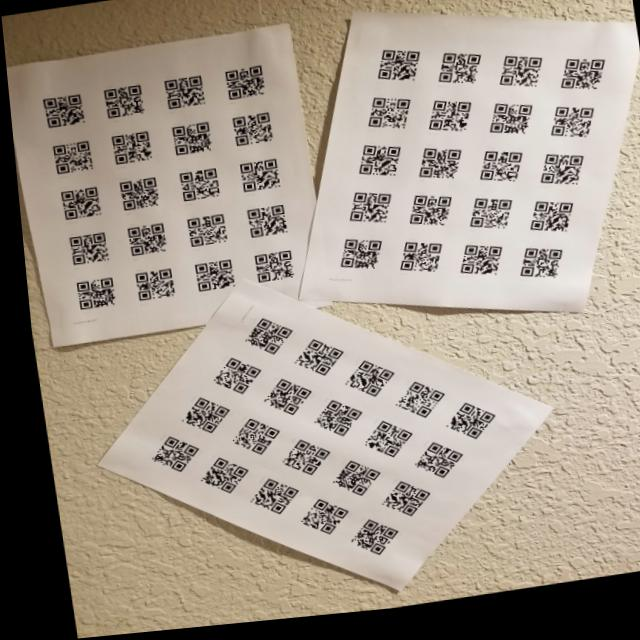QR_CODE: (360, 41, 428, 99), (534, 104, 601, 162), (227, 309, 294, 367), (25, 82, 92, 138), (525, 151, 593, 206), (166, 388, 230, 444), (132, 426, 196, 482), (546, 57, 614, 109), (196, 350, 259, 405), (281, 496, 345, 549), (331, 516, 392, 571), (484, 54, 547, 107), (505, 249, 568, 302), (338, 141, 402, 193), (328, 188, 393, 239), (91, 73, 150, 129), (317, 238, 384, 287), (403, 145, 465, 197), (330, 358, 392, 410), (268, 437, 330, 488), (392, 192, 455, 242), (432, 404, 495, 454), (347, 421, 410, 471), (453, 196, 513, 248), (412, 100, 475, 149), (298, 399, 361, 448), (475, 102, 535, 153), (185, 454, 245, 505), (353, 93, 414, 143), (400, 442, 461, 492), (367, 482, 428, 532), (249, 378, 311, 427), (233, 478, 295, 527), (280, 339, 340, 389), (384, 240, 445, 289), (381, 384, 443, 432), (172, 213, 235, 260), (425, 51, 485, 100), (445, 244, 505, 293), (214, 57, 269, 110), (467, 150, 525, 200), (319, 460, 377, 510), (217, 417, 277, 465), (117, 262, 174, 312), (54, 226, 114, 273), (517, 204, 577, 251), (154, 68, 209, 119), (46, 179, 103, 228), (158, 119, 217, 166), (220, 111, 279, 158), (239, 248, 298, 295), (169, 164, 227, 211), (179, 257, 237, 304), (99, 126, 156, 173), (235, 203, 292, 250), (59, 270, 117, 316), (112, 217, 168, 264), (230, 156, 285, 203), (107, 173, 164, 217), (41, 131, 93, 179)
